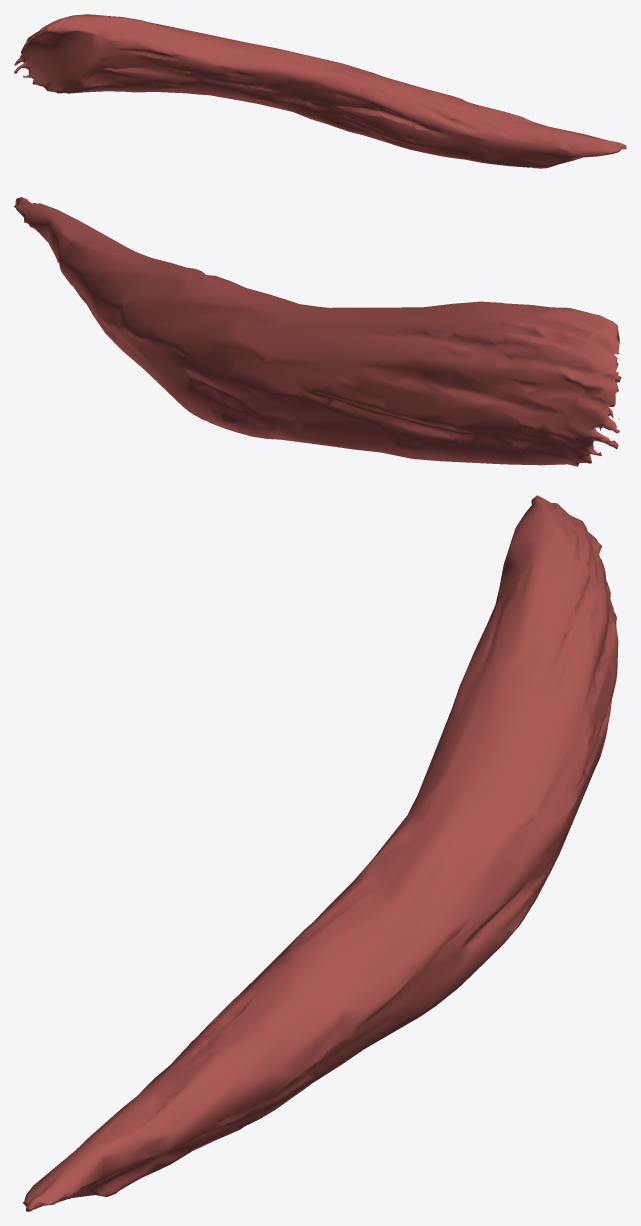
File: FMA22335.glb
3 views of the same model, one above another, from view 1: azimuth 30°, elevation 25°; view 2: azimuth 150°, elevation 25°; view 3: azimuth 270°, elevation 25° (orthographic). The views are drawn at different scales.
Parts seen in each view (by area): view 1: FMA22335; view 2: FMA22335; view 3: FMA22335.
Part boxes in pixels (x1,y1,x2,y2): FMA22335: (14, 14, 626, 168); FMA22335: (14, 197, 621, 466); FMA22335: (23, 495, 618, 1211).
Bounding box in the file's own units: 0.0808 × 0.0264 × 0.0442.
